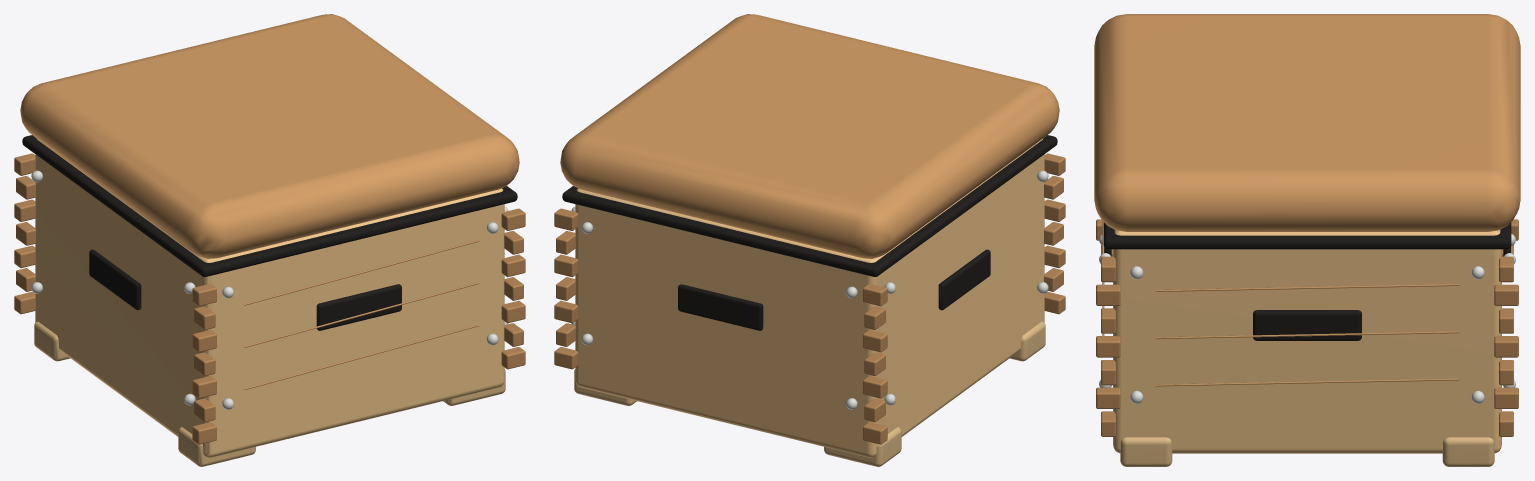
File: kastenwuerfel_3D.glb
3 renders of one model, left to right at view 1: azimuth 30°, elevation 25°; view 2: azimuth 150°, elevation 25°; view 3: azimuth 270°, elevation 25°, orthographic. The views are drawn at different scales.
Visible parts, largest first — view 1: kastenwuerfel_3D__web_warm_plywood_vault_cube_panels, kastenwuerfel_3D__web_caramel_brown_soft_vault_cube_top, kastenwuerfel_3D__web_black_recessed_vault_cube_hand_holes, kastenwuerfel_3D__web_darker_interlocking_vault_cube_joints, kastenwuerfel_3D__web_light_tan_wooden_vault_cube_feet, kastenwuerfel_3D__web_subtle_vault_cube_plywood_grain, kastenwuerfel_3D__web_small_chrome_vault_cube_screws; view 2: kastenwuerfel_3D__web_warm_plywood_vault_cube_panels, kastenwuerfel_3D__web_caramel_brown_soft_vault_cube_top, kastenwuerfel_3D__web_black_recessed_vault_cube_hand_holes, kastenwuerfel_3D__web_darker_interlocking_vault_cube_joints, kastenwuerfel_3D__web_light_tan_wooden_vault_cube_feet, kastenwuerfel_3D__web_small_chrome_vault_cube_screws; view 3: kastenwuerfel_3D__web_caramel_brown_soft_vault_cube_top, kastenwuerfel_3D__web_warm_plywood_vault_cube_panels, kastenwuerfel_3D__web_black_recessed_vault_cube_hand_holes, kastenwuerfel_3D__web_darker_interlocking_vault_cube_joints, kastenwuerfel_3D__web_light_tan_wooden_vault_cube_feet, kastenwuerfel_3D__web_subtle_vault_cube_plywood_grain, kastenwuerfel_3D__web_small_chrome_vault_cube_screws.
Part boxes in pixels (x1=…): kastenwuerfel_3D__web_warm_plywood_vault_cube_panels: x1=35, y1=139, x2=504, y2=457; kastenwuerfel_3D__web_caramel_brown_soft_vault_cube_top: x1=20, y1=14, x2=519, y2=258; kastenwuerfel_3D__web_black_recessed_vault_cube_hand_holes: x1=22, y1=135, x2=517, y2=330; kastenwuerfel_3D__web_darker_interlocking_vault_cube_joints: x1=14, y1=153, x2=525, y2=444; kastenwuerfel_3D__web_light_tan_wooden_vault_cube_feet: x1=34, y1=321, x2=505, y2=466; kastenwuerfel_3D__web_subtle_vault_cube_plywood_grain: x1=243, y1=240, x2=479, y2=390; kastenwuerfel_3D__web_small_chrome_vault_cube_screws: x1=31, y1=170, x2=508, y2=409; kastenwuerfel_3D__web_warm_plywood_vault_cube_panels: x1=575, y1=139, x2=1044, y2=457; kastenwuerfel_3D__web_caramel_brown_soft_vault_cube_top: x1=560, y1=14, x2=1059, y2=258; kastenwuerfel_3D__web_black_recessed_vault_cube_hand_holes: x1=562, y1=135, x2=1057, y2=330; kastenwuerfel_3D__web_darker_interlocking_vault_cube_joints: x1=554, y1=153, x2=1065, y2=444; kastenwuerfel_3D__web_light_tan_wooden_vault_cube_feet: x1=574, y1=321, x2=1045, y2=466; kastenwuerfel_3D__web_small_chrome_vault_cube_screws: x1=571, y1=170, x2=1048, y2=409; kastenwuerfel_3D__web_caramel_brown_soft_vault_cube_top: x1=1094, y1=14, x2=1520, y2=231; kastenwuerfel_3D__web_warm_plywood_vault_cube_panels: x1=1113, y1=230, x2=1501, y2=453; kastenwuerfel_3D__web_black_recessed_vault_cube_hand_holes: x1=1103, y1=222, x2=1511, y2=340; kastenwuerfel_3D__web_darker_interlocking_vault_cube_joints: x1=1096, y1=219, x2=1518, y2=436; kastenwuerfel_3D__web_light_tan_wooden_vault_cube_feet: x1=1120, y1=437, x2=1494, y2=466; kastenwuerfel_3D__web_subtle_vault_cube_plywood_grain: x1=1102, y1=221, x2=1459, y2=386; kastenwuerfel_3D__web_small_chrome_vault_cube_screws: x1=1099, y1=234, x2=1515, y2=403.
Size of the model in its own units: 0.9 by 0.68 by 0.9.
